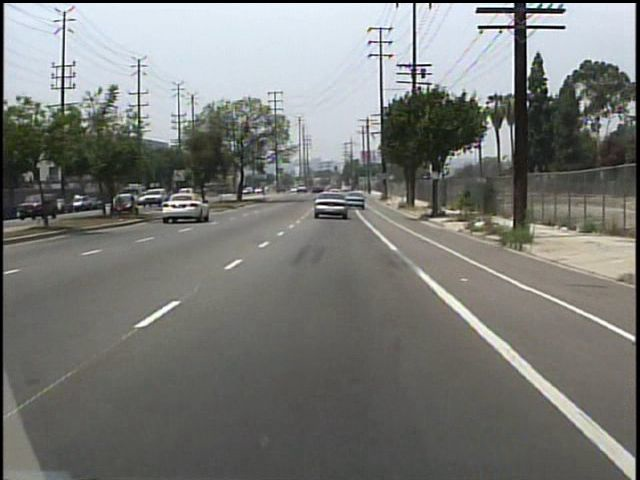person: (74, 192, 84, 214)
